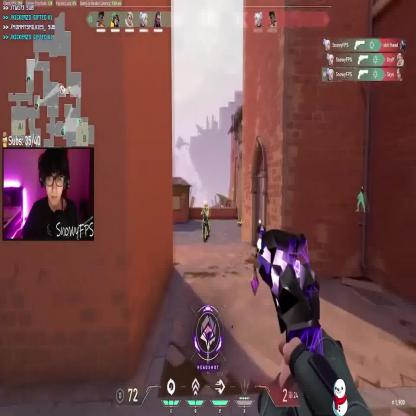enemy: (200, 200, 211, 244)
enemy_head: (203, 201, 208, 211)
